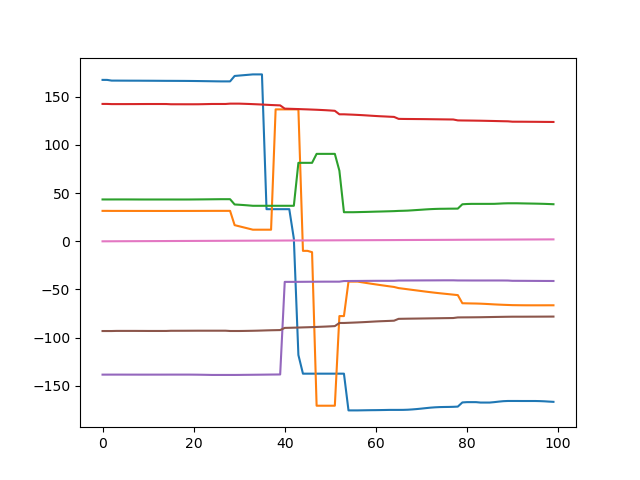Good_Bicep_Curl: (26, 20, 640, 480)
